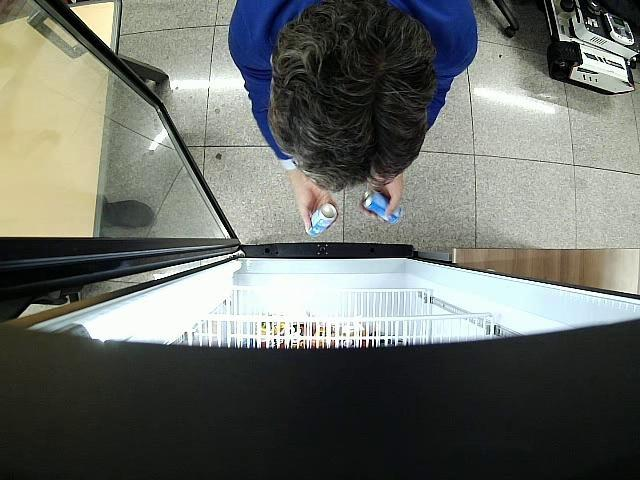15_letsbe: (362, 190, 402, 224), (307, 204, 338, 236)
